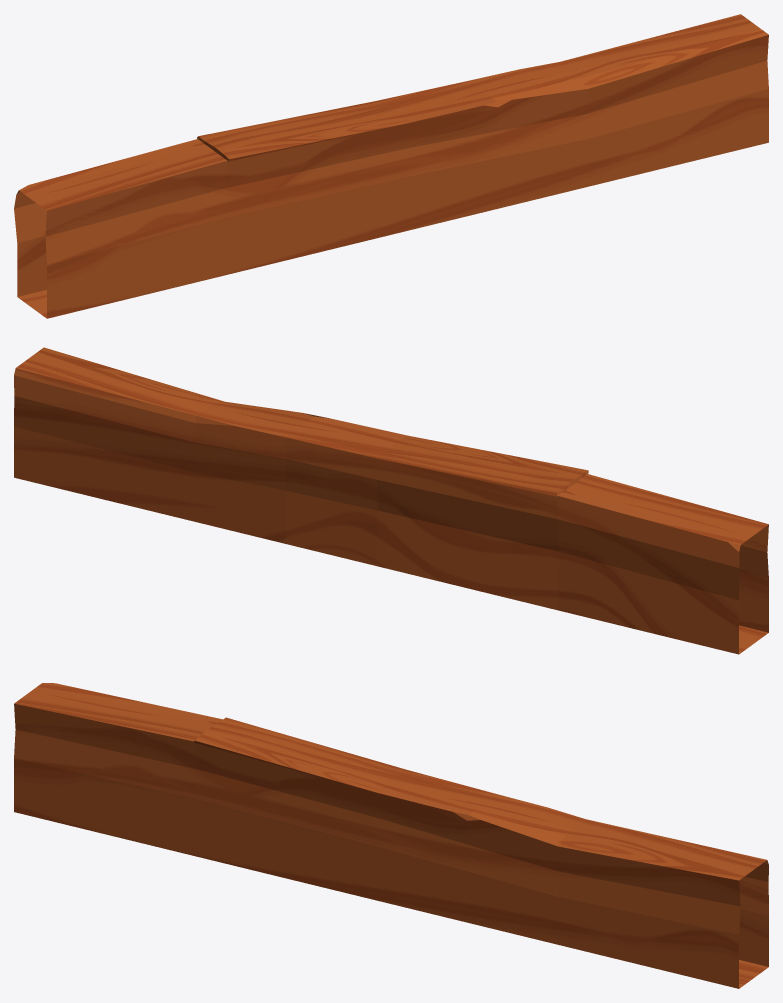
Rendered from side plank.fbx.
3 views of the same model, one above another, from view 1: azimuth 30°, elevation 25°; view 2: azimuth 150°, elevation 25°; view 3: azimuth 330°, elevation 25° (orthographic).
Parts seen in each view (by area): view 1: Side_Plank; view 2: Side_Plank; view 3: Side_Plank.
Part boxes in pixels (box(x1,y1,x2,y2)): Side_Plank: box(14, 14, 768, 318); Side_Plank: box(14, 347, 768, 654); Side_Plank: box(14, 683, 768, 988).
Bounding box in the file's own units: 2807 × 436 × 219.
